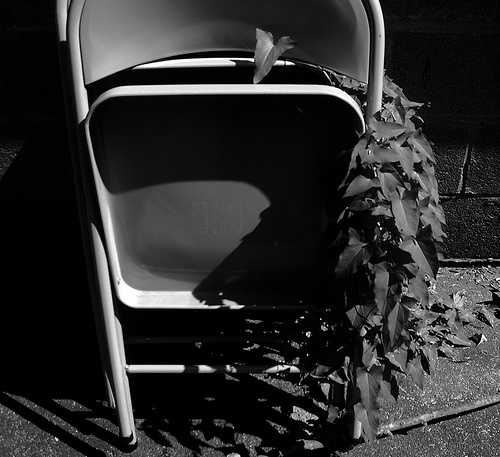obstacle: (57, 0, 383, 444)
